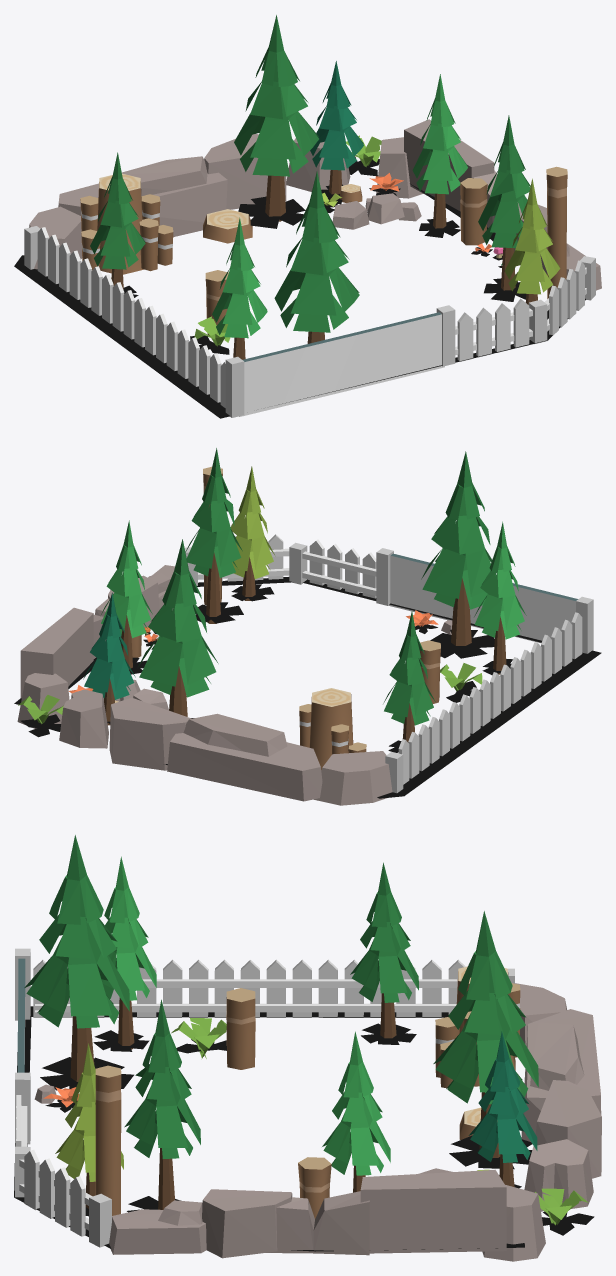
The model's file is xweilan_1011_3.FBX.
The picture shows the model from 3 angles, top to bottom: view 1: azimuth 30°, elevation 25°; view 2: azimuth 150°, elevation 25°; view 3: azimuth 270°, elevation 25°; orthographic projection. The views are drawn at different scales.
Parts seen in each view (by area): view 1: xweilan_1011_3; view 2: xweilan_1011_3; view 3: xweilan_1011_3.
Boxes of the visible parts, x1,y1,x2,y2 form: xweilan_1011_3: (14, 15, 601, 418); xweilan_1011_3: (14, 448, 601, 805); xweilan_1011_3: (14, 835, 601, 1261).
Bounding box in the file's own units: 4724 × 2273 × 4686.
